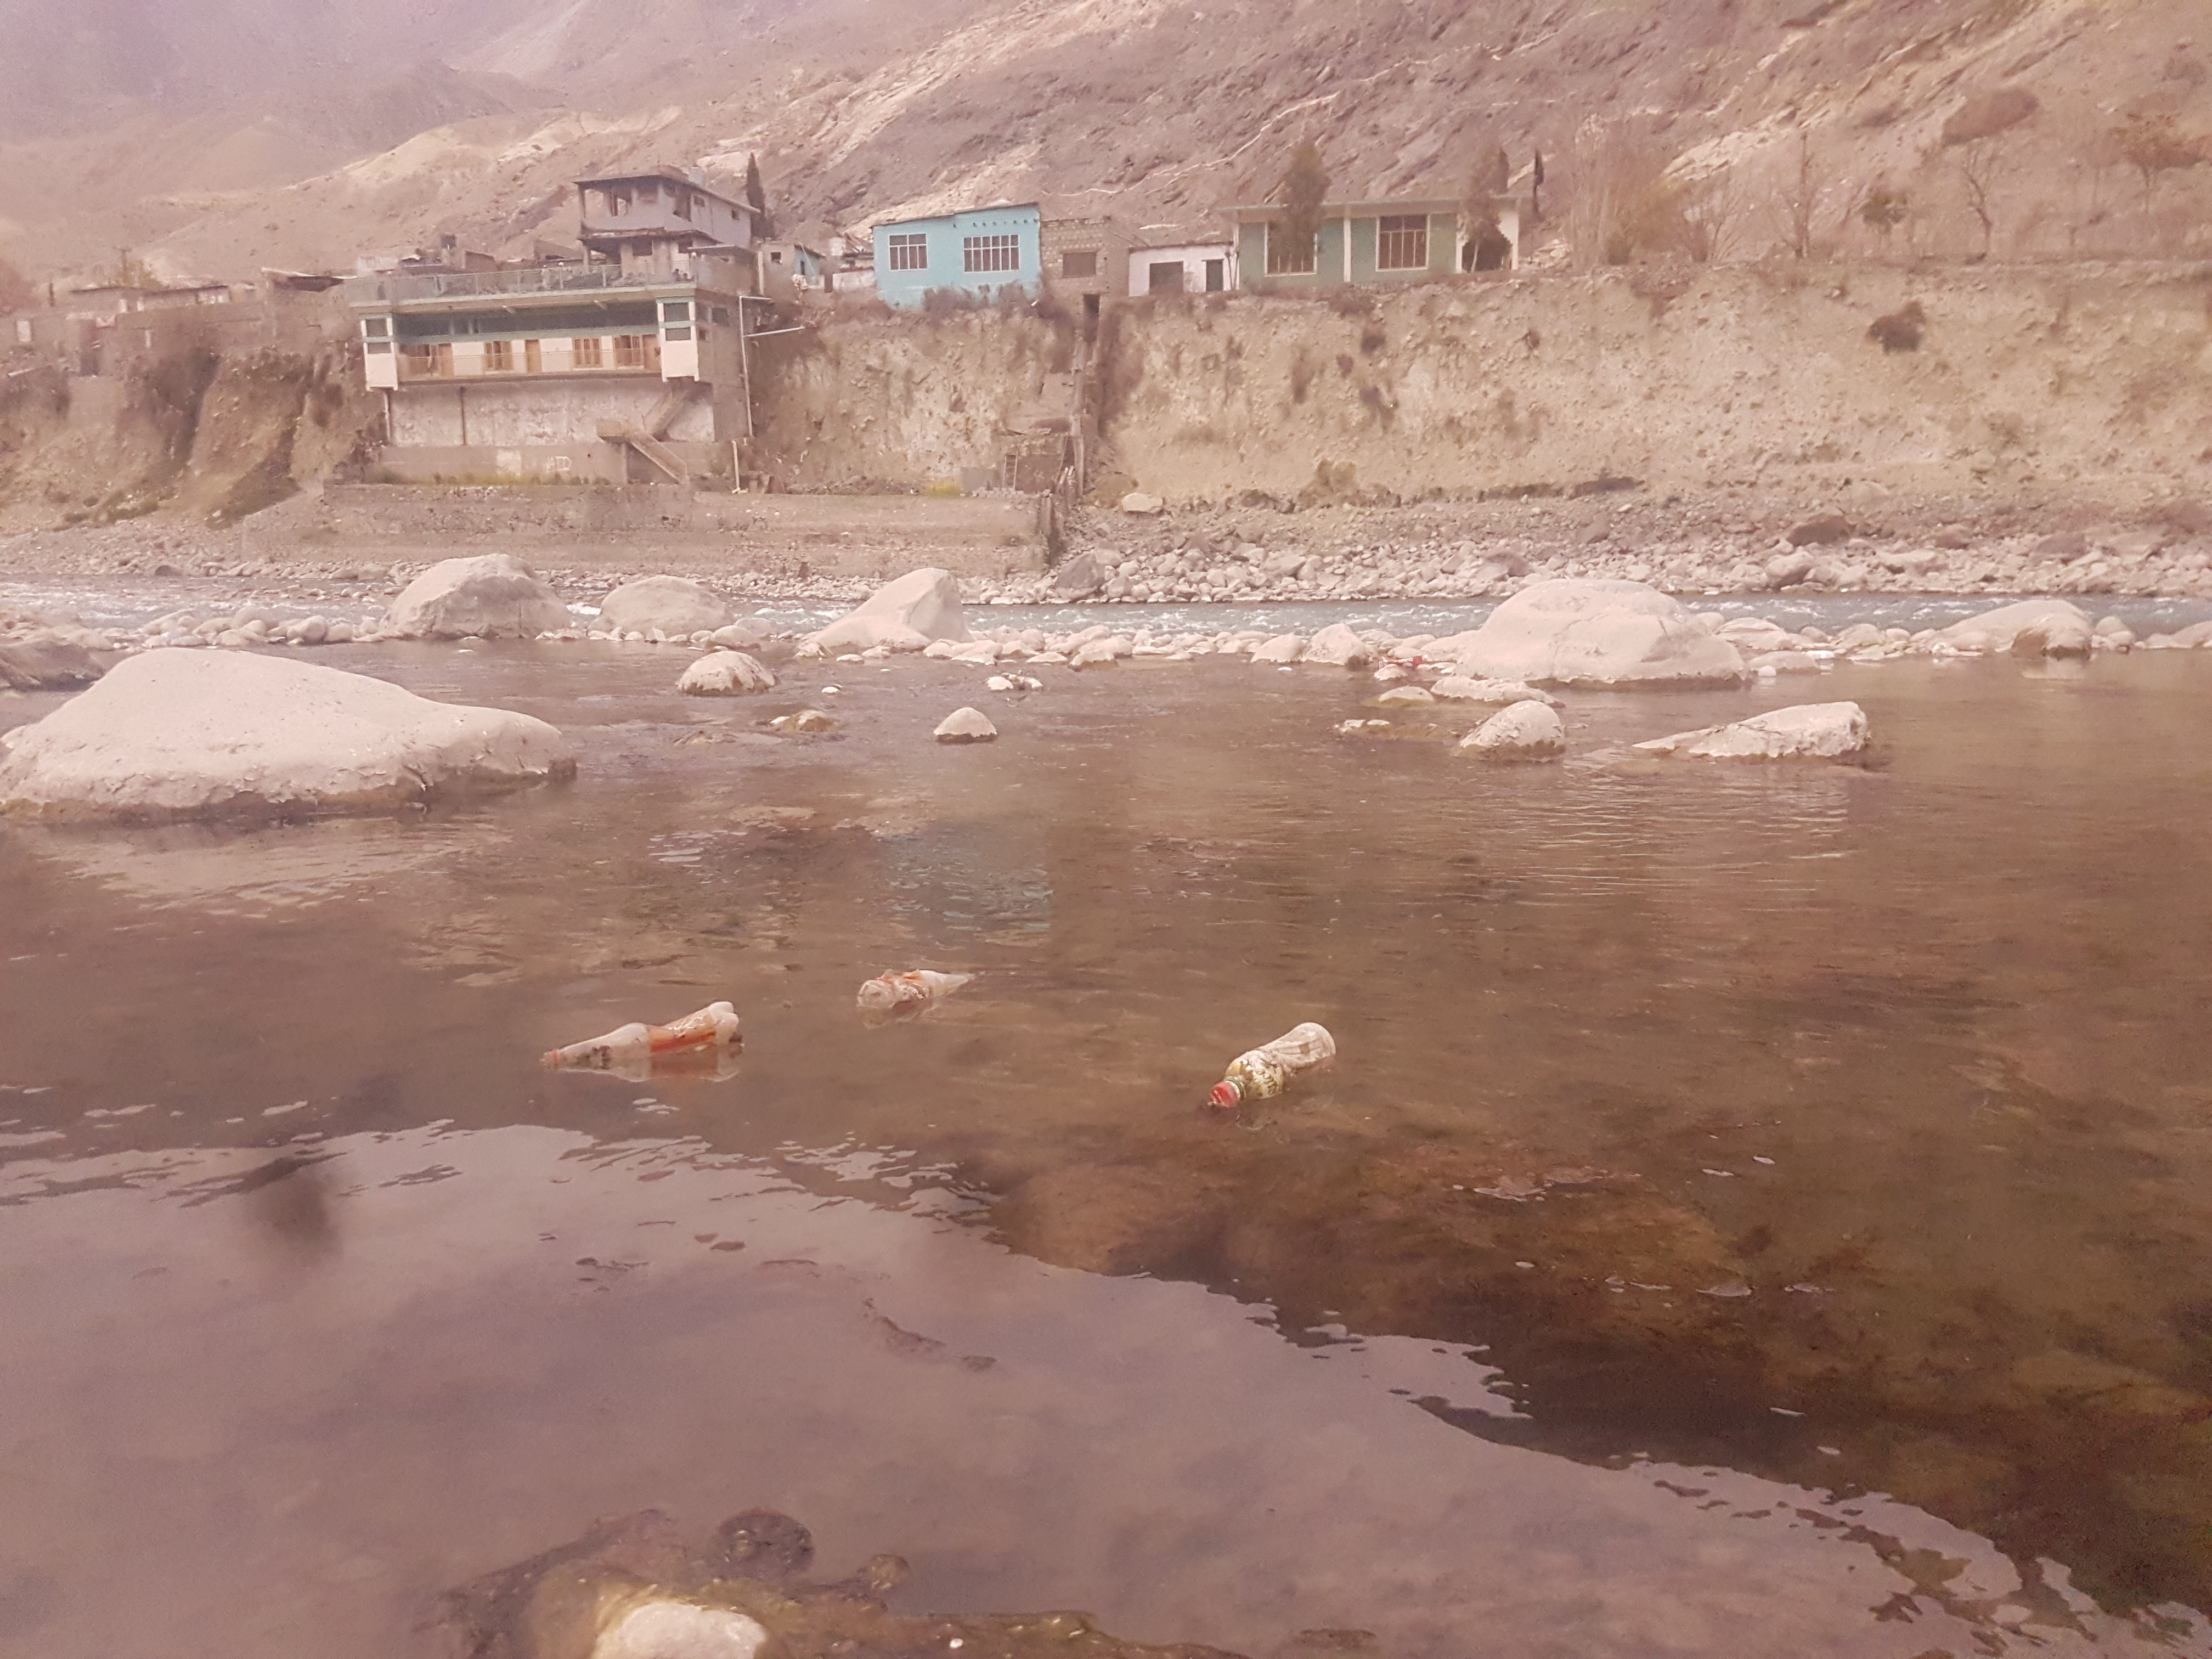Plastic Bottle: (543, 1000, 740, 1063), (1209, 1021, 1336, 1108), (859, 969, 977, 1006), (1385, 655, 1428, 666)
